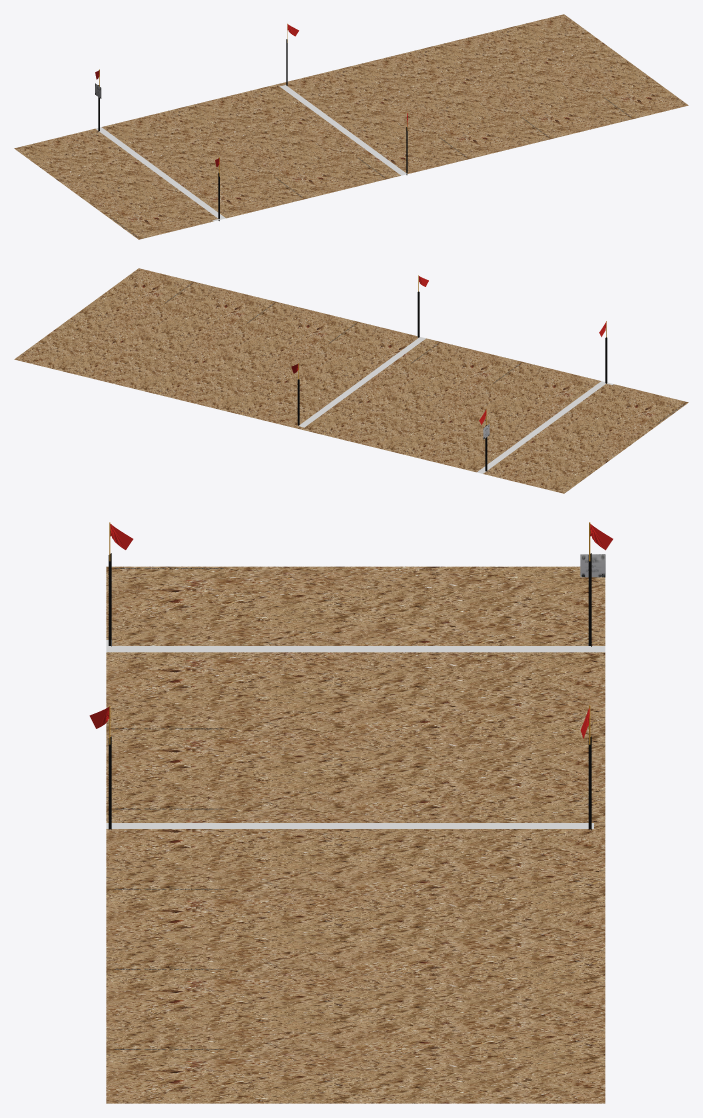
File: obstacle_closed_day.glb
The picture shows the model from 3 angles, top to bottom: view 1: azimuth 30°, elevation 25°; view 2: azimuth 150°, elevation 25°; view 3: azimuth 270°, elevation 25°; orthographic projection. The views are drawn at different scales.
Parts seen in each view (by area): view 1: Plane.002; view 2: Plane.002; view 3: Plane.002.
Boxes of the visible parts, left/top/right/bottom form: Plane.002: left=14, top=14, right=688, bottom=239; Plane.002: left=14, top=268, right=688, bottom=493; Plane.002: left=89, top=522, right=612, bottom=1103.
Size of the model in its own units: 12.86 by 1.42 by 5.3.
6 materials, 2 textured.
